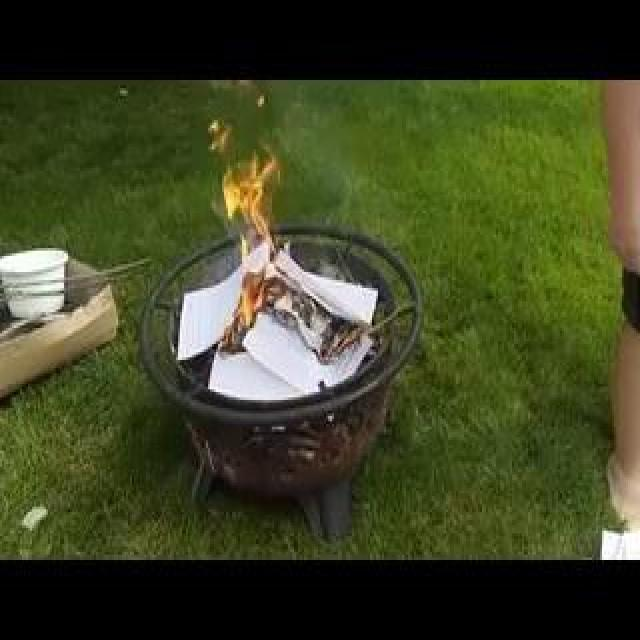Fire: (94, 224, 242, 246)
